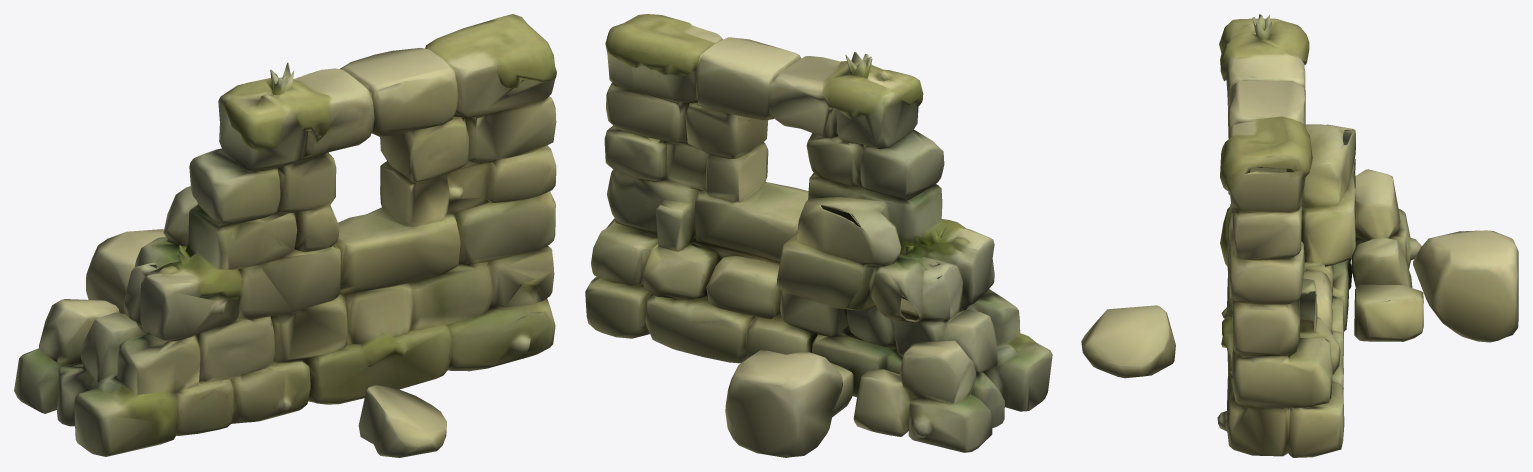
3 renders of one model, left to right at view 1: azimuth 30°, elevation 25°; view 2: azimuth 150°, elevation 25°; view 3: azimuth 270°, elevation 25°, orthographic. The views are drawn at different scales.
Parts seen in each view (by area): view 1: world; view 2: world; view 3: world.
Part boxes in pixels (x1=…): world: x1=14, y1=14, x2=556, y2=457; world: x1=585, y1=14, x2=1052, y2=457; world: x1=1081, y1=14, x2=1518, y2=457.
Bounding box in the file's own units: 1 × 0.7013 × 0.8642.
Materials: 1 (1 with a texture image).
